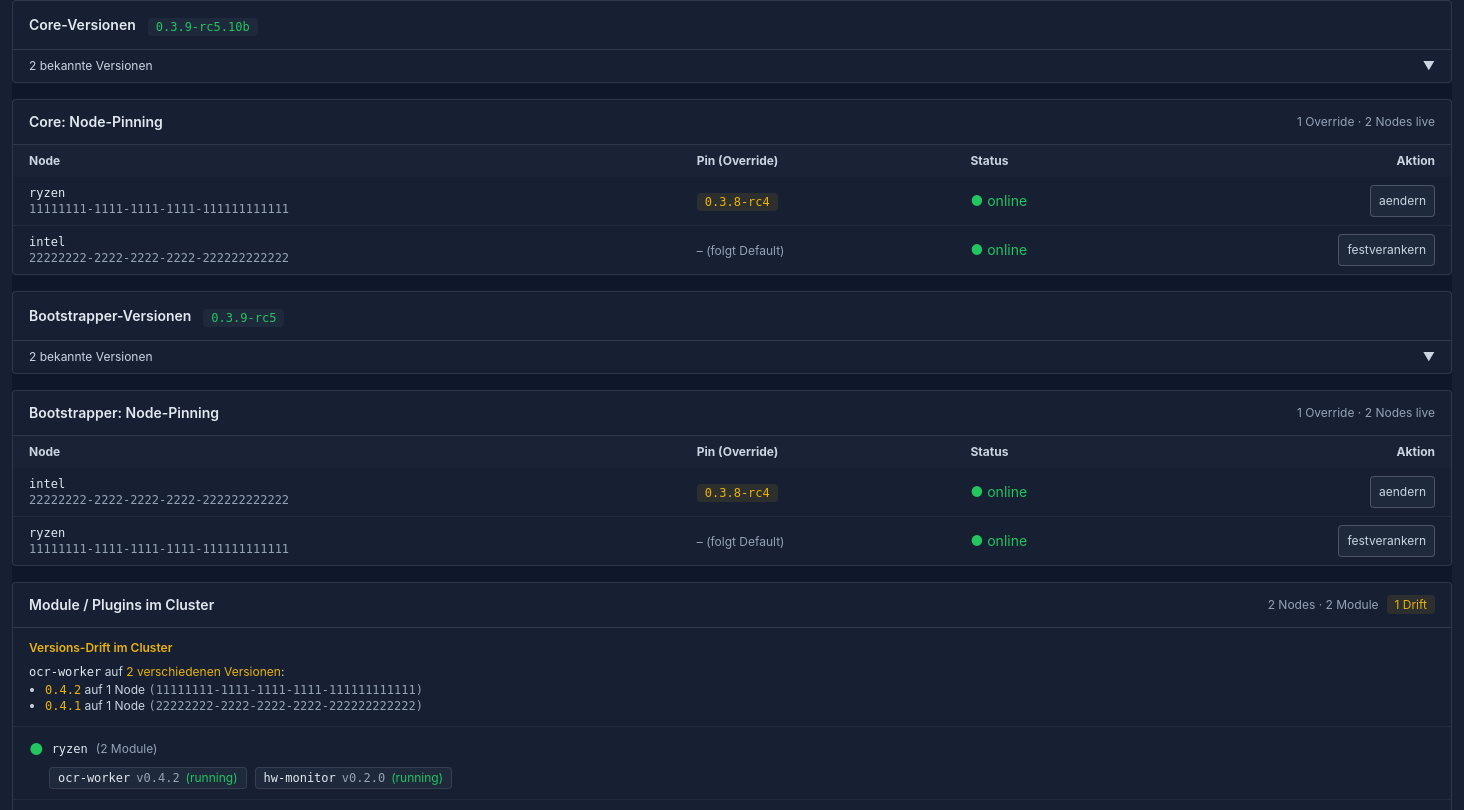
it: ClusterIntentSection — Bootstrapper entsperrt › Bootstrapper-Versionen bekommen Default-Tausch-Button wenn freigeschaltet
This screenshot has width=1464, height=810.
Click the button with test id "versions-toggle-bootstrapper-versionen" at (87, 356), box [13,341,1451,373]
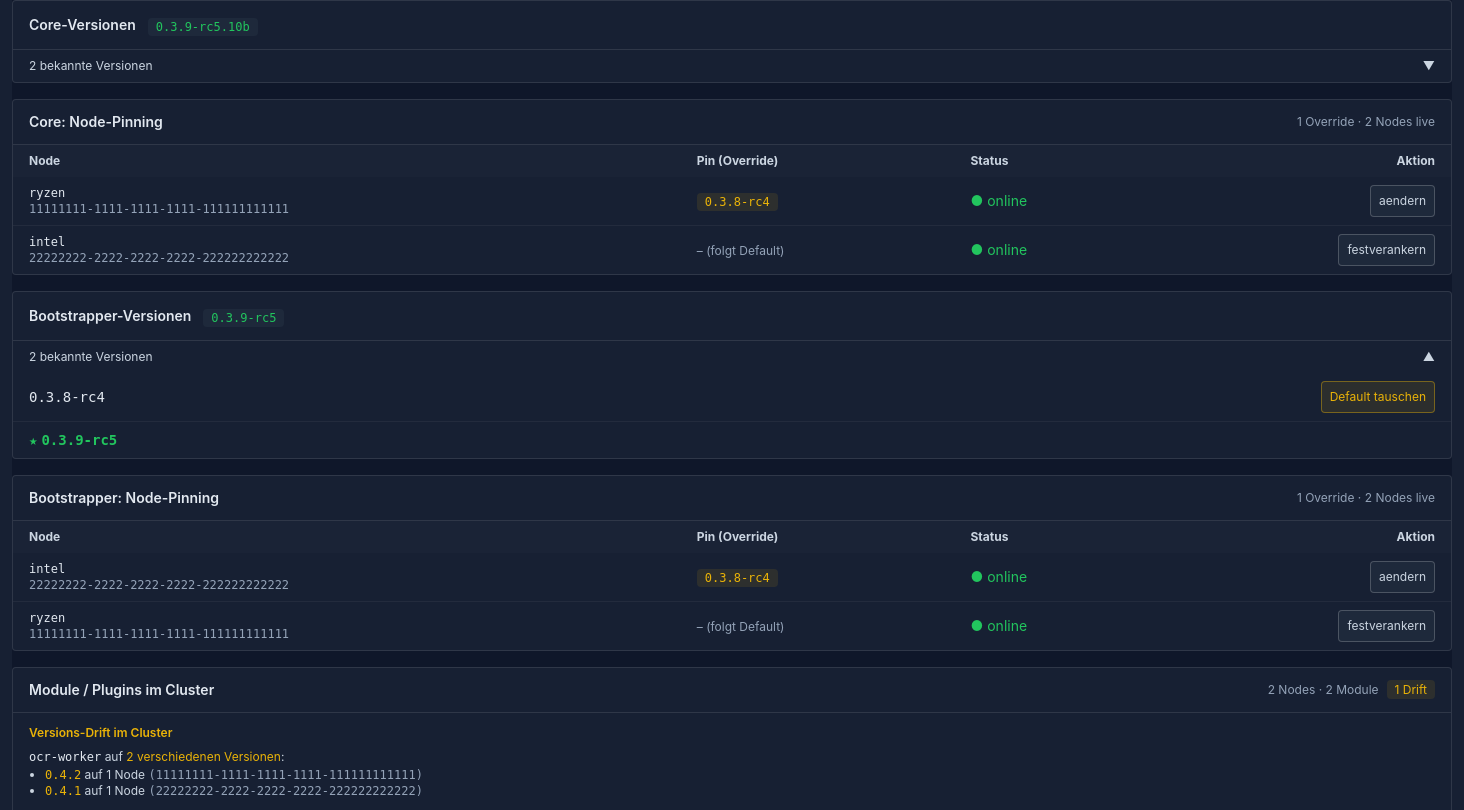
Now the button with test id "versions-set-default-0.3.8-rc4" is shown, box [1321,381,1435,413]
